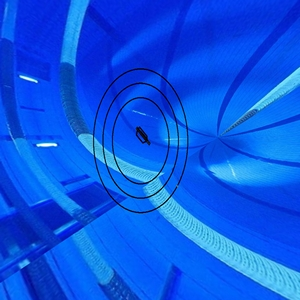circle: (90, 65, 193, 219)
submarine: (133, 126, 155, 150)
